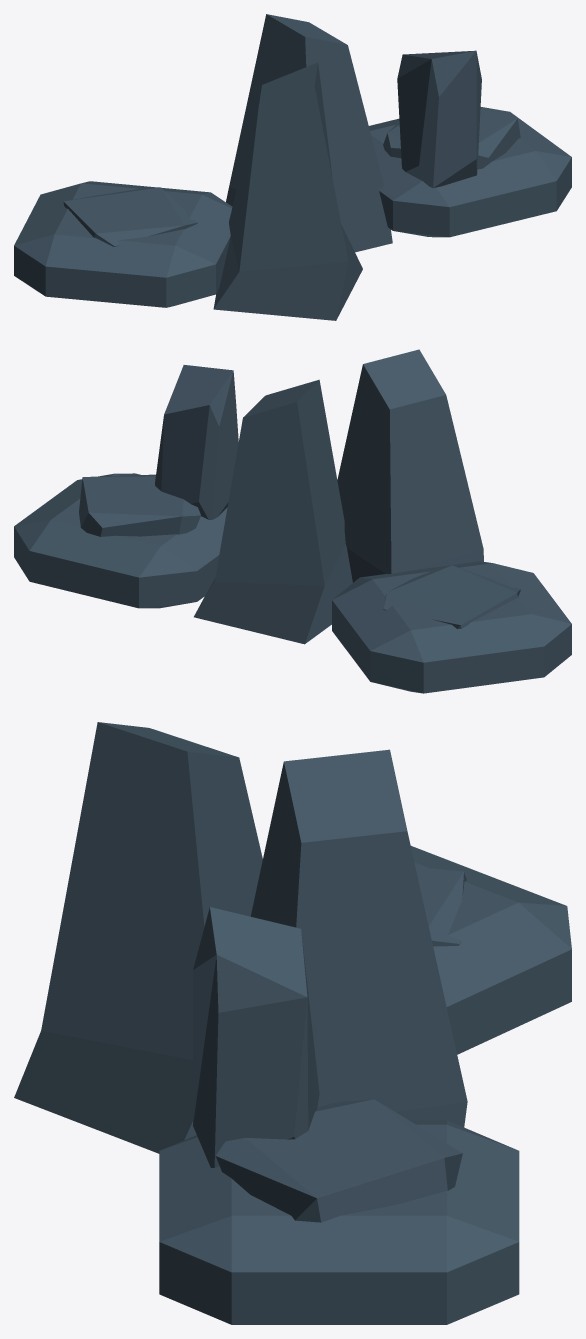
File: Stone2342214653.fbx
The picture shows the model from 3 angles, top to bottom: view 1: azimuth 30°, elevation 25°; view 2: azimuth 150°, elevation 25°; view 3: azimuth 270°, elevation 25°; orthographic projection. The views are drawn at different scales.
Parts seen in each view (by area): view 1: Rock 4; view 2: Rock 4; view 3: Rock 4.
Boxes of the visible parts, box(x1,y1,x2,y2) form: Rock 4: box(14, 14, 571, 320); Rock 4: box(14, 349, 571, 693); Rock 4: box(14, 722, 571, 1324).
Bounding box in the file's own units: 356 × 148 × 195.
